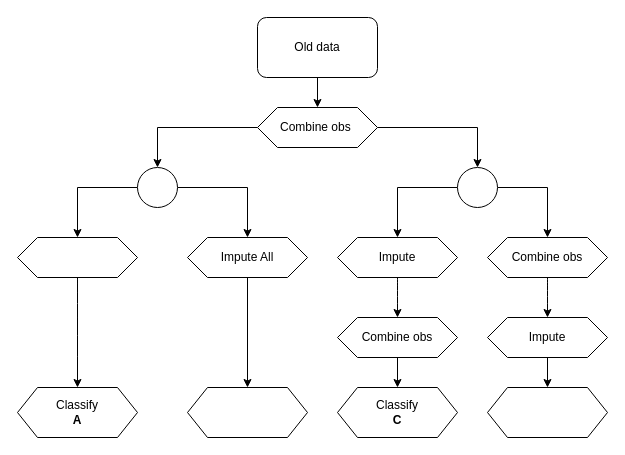
The diagram is 625 pixels wide and 455 high, and some of its shapes have lost their labels. Here are the shapes that lost their labels. From the top down, the box of each, then its label:
(136, 166, 178, 208): NO
(456, 166, 498, 208): YES
(16, 236, 138, 278): Impute Src-wise
(186, 386, 308, 438): Classify B
(486, 386, 608, 438): Classify D
